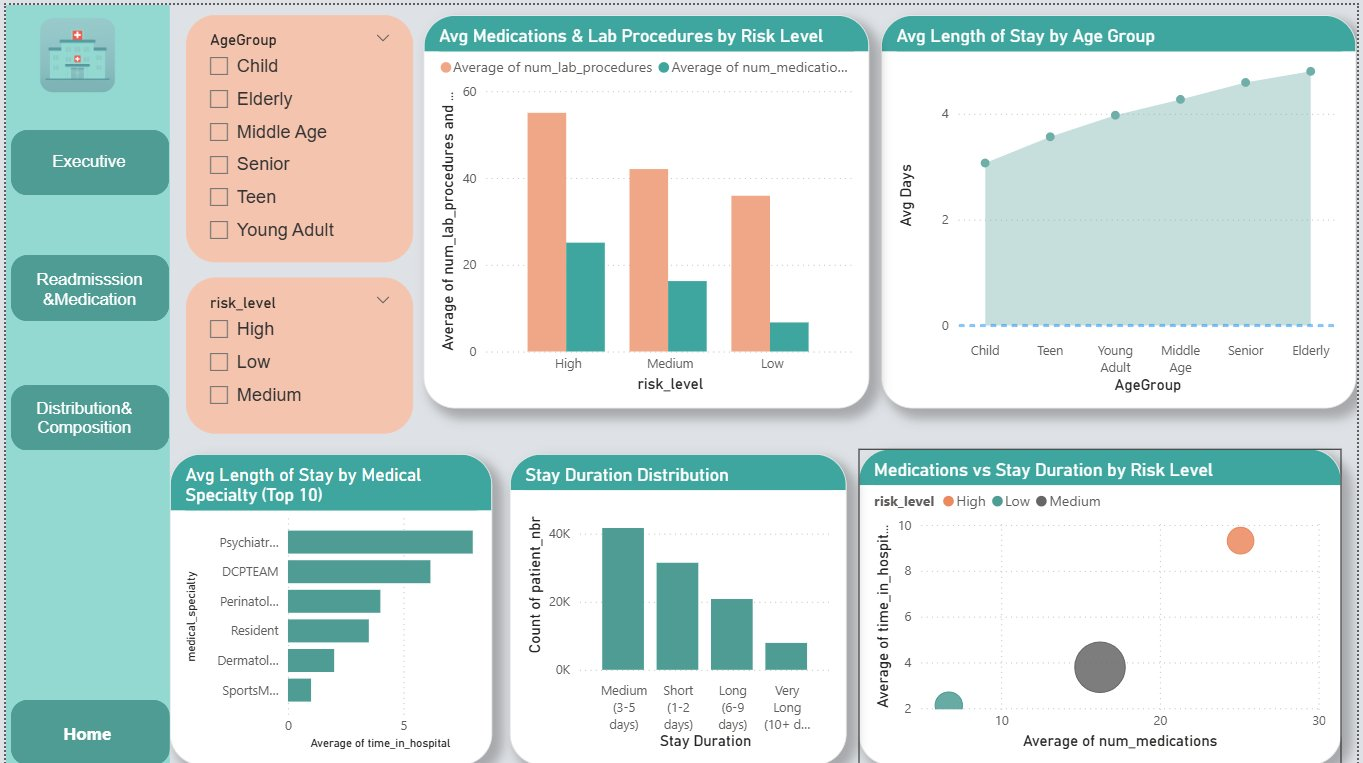

The page's visual inventory and layout, read from the dashboard file:
{"tool":"powerbi","page":{"name":"Clinical","canvas":[1280,720],"ordinal":2},"visuals":[{"type":"stackedAreaChart","title":"Avg Length of Stay by Age Group","fields":{"Category":["diabetic_data_cleaned4.AgeGroup"],"Y":["Avg(diabetic_data_cleaned4.time_in_hospital)"]},"box":[829.4,9.4,450.6,372.9],"z":0},{"type":"textbox","box":[55.8,46.5,75.6,27.9],"z":1000},{"type":"scatterChart","title":"Medications vs Stay Duration by Risk Level","fields":{"X":["Avg(diabetic_data_cleaned4.num_medications)"],"Y":["Avg(diabetic_data_cleaned4.time_in_hospital)"],"Series":["diabetic_data_cleaned4.risk_level"],"Size":["CountNonNull(diabetic_data_cleaned4.patient_nbr)"]},"box":[808.2,420,457.6,300],"z":2000},{"type":"clusteredBarChart","title":"Avg Length of Stay by Medical Specialty (Top 10)","fields":{"Category":["diabetic_data_cleaned4.medical_specialty"],"Y":["Avg(diabetic_data_cleaned4.time_in_hospital)"]},"box":[155.3,424.7,305.9,295.3],"z":3000},{"type":"clusteredColumnChart","title":"Stay Duration Distribution","fields":{"Y":["CountNonNull(diabetic_data_cleaned4.patient_nbr)"],"Category":["diabetic_data_cleaned4.Stay Category"]},"box":[477.6,424.7,318.8,295.3],"z":4000},{"type":"shape","box":[0,0,155.3,719.9],"z":5000},{"type":"shape","box":[4.5,359.6,149.9,62],"z":6000},{"type":"actionButton","box":[18.9,368.3,110.2,46.2],"z":7000},{"type":"shape","box":[4.7,237.1,149.9,62.8],"z":8000},{"type":"shape","box":[4.7,118.1,149.9,61.9],"z":9000},{"type":"actionButton","box":[28.1,128.4,100.3,40.3],"z":10000},{"type":"actionButton","box":[22,243.4,113.3,51.4],"z":11000},{"type":"shape","box":[4.7,658.4,150.4,61.6],"z":12000},{"type":"actionButton","box":[27.2,669.1,99.5,40.3],"z":13000},{"type":"clusteredColumnChart","title":"Avg Medications & Lab Procedures by Risk Level","fields":{"Category":["diabetic_data_cleaned4.risk_level"],"Y":["Avg(diabetic_data_cleaned4.num_lab_procedures)","Avg(diabetic_data_cleaned4.num_medications)"]},"box":[395.3,9.4,422.4,372.9],"z":14000},{"type":"slicer","fields":{"Values":["diabetic_data_cleaned4.AgeGroup"]},"box":[170.6,9.4,215.3,234.1],"z":15000},{"type":"slicer","fields":{"Values":["diabetic_data_cleaned4.risk_level"]},"box":[170.6,257.6,215.3,148.2],"z":16000},{"type":"image","box":[18.8,0,97.6,96.5],"z":16001}]}

Visuals, with their boxes in screenshot pixels (x1, y1, x2, y2), scaled from the page's 1280x720 canvas onto the 1363x763 screenshot:
"Avg Length of Stay by Age Group" stackedAreaChart: select_region(883, 10, 1362, 405)
textbox: select_region(59, 49, 140, 79)
"Medications vs Stay Duration by Risk Level" scatterChart: select_region(861, 445, 1348, 762)
"Avg Length of Stay by Medical Specialty (Top 10)" clusteredBarChart: select_region(165, 450, 491, 762)
"Stay Duration Distribution" clusteredColumnChart: select_region(509, 450, 848, 762)
shape: select_region(0, 0, 165, 762)
shape: select_region(5, 381, 164, 447)
actionButton: select_region(20, 390, 137, 439)
shape: select_region(5, 251, 165, 318)
shape: select_region(5, 125, 165, 191)
actionButton: select_region(30, 136, 137, 179)
actionButton: select_region(23, 258, 144, 312)
shape: select_region(5, 698, 165, 762)
actionButton: select_region(29, 709, 135, 752)
"Avg Medications & Lab Procedures by Risk Level" clusteredColumnChart: select_region(421, 10, 871, 405)
slicer - diabetic_data_cleaned4.AgeGroup: select_region(182, 10, 411, 258)
slicer - diabetic_data_cleaned4.risk_level: select_region(182, 273, 411, 430)
image: select_region(20, 0, 124, 102)
